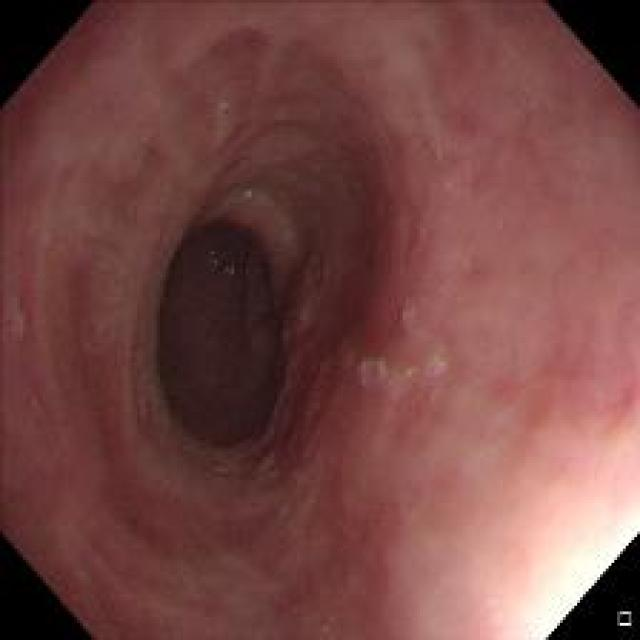color misalignment: (205, 248, 222, 269), (222, 262, 236, 281)
contrast: (155, 220, 279, 452)
saturation: (514, 521, 638, 638)
